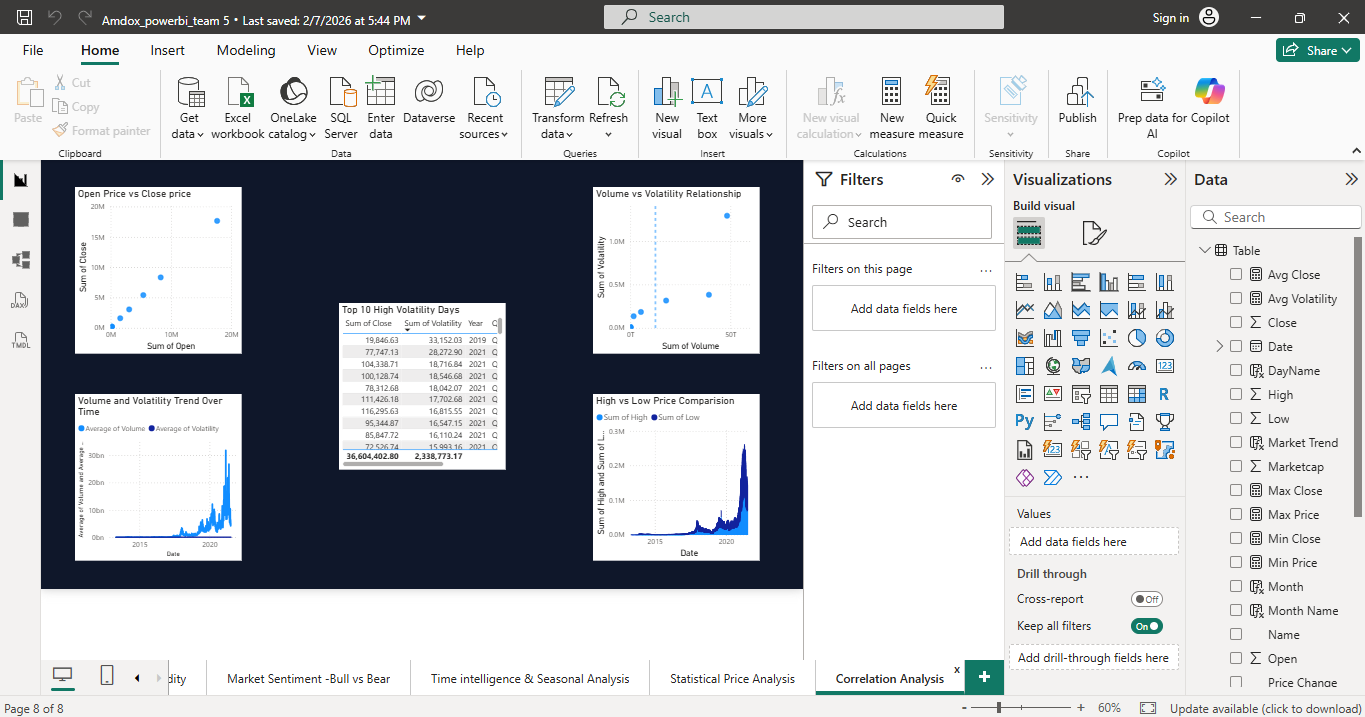

The dashboard page shown, as its layout file describes it:
{"tool":"powerbi","page":{"name":"Correlation Analysis","canvas":[1280,720],"ordinal":7},"visuals":[{"type":"scatterChart","title":"Open Price vs Close price","fields":{"X":["Sum(Table.Open)"],"Y":["Sum(Table.Close)"],"Category":["Table.Date.Variation.Date Hierarchy.Year","Table.Date.Variation.Date Hierarchy.Quarter","Table.Date.Variation.Date Hierarchy.Month","Table.Date.Variation.Date Hierarchy.Day"]},"box":[56.7,45.4,279.7,279.7],"z":0},{"type":"scatterChart","title":"Volume vs Volatility Relationship","fields":{"X":["Sum(Table.Volume)"],"Y":["Sum(Table.Volatility)"],"Category":["Table.Date.Variation.Date Hierarchy.Year","Table.Date.Variation.Date Hierarchy.Quarter","Table.Date.Variation.Date Hierarchy.Month","Table.Date.Variation.Date Hierarchy.Day"]},"box":[927.9,45.4,279.7,279.7],"z":1},{"type":"lineChart","title":"Volume and Volatility Trend Over Time","fields":{"Category":["Table.Date"],"Y":["Avg(Table.Volume)","Avg(Table.Volatility)"]},"box":[56.7,393.1,279.7,279.7],"z":2},{"type":"columnChart","title":"High vs Low Price Comparision","fields":{"Category":["Table.Date"],"Y":["Sum(Table.High)","Sum(Table.Low)"]},"box":[927.9,393.1,279.7,279.7],"z":3},{"type":"tableEx","title":"Top 10 High Volatility Days","fields":{"Values":["Sum(Table.Close)","Sum(Table.Volatility)","Table.Date.Variation.Date Hierarchy.Year","Table.Date.Variation.Date Hierarchy.Quarter","Table.Date.Variation.Date Hierarchy.Month","Table.Date.Variation.Date Hierarchy.Day"]},"box":[500.8,240,279.7,279.7],"z":4}]}

Visuals, with their boxes on the page's 1280x720 design canvas (x1, y1, x2, y2). These are canvas units, not pixel positions in the 1365x717 screenshot, which may show the page scaled, cropped or inside an application window:
"Open Price vs Close price" scatterChart: Rect(57, 45, 336, 325)
"Volume vs Volatility Relationship" scatterChart: Rect(928, 45, 1208, 325)
"Volume and Volatility Trend Over Time" lineChart: Rect(57, 393, 336, 673)
"High vs Low Price Comparision" columnChart: Rect(928, 393, 1208, 673)
"Top 10 High Volatility Days" tableEx: Rect(501, 240, 780, 520)
